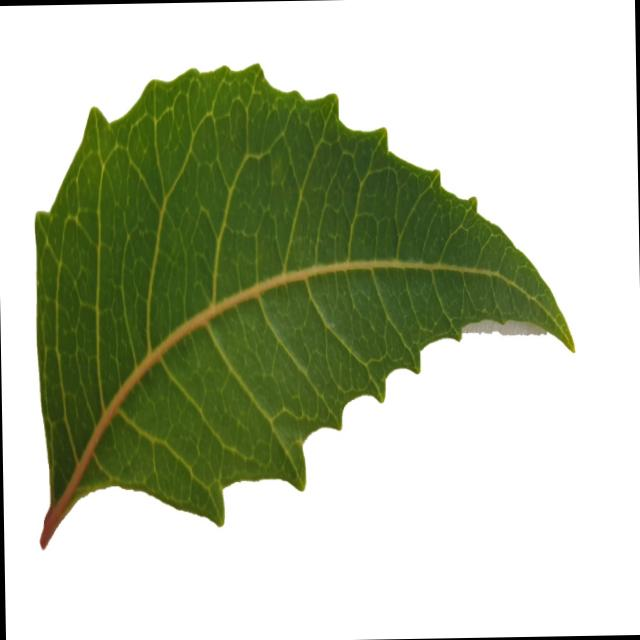Medicinal-Neem: (22, 48, 578, 550)
